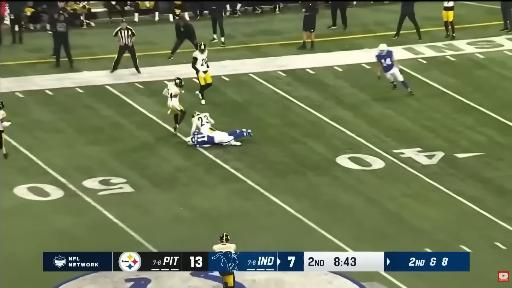Helmet: (220, 233, 230, 243), (198, 42, 206, 54), (174, 78, 183, 88), (378, 44, 388, 53), (188, 137, 194, 144), (193, 112, 200, 117), (0, 101, 4, 109)
Jersey: (191, 113, 214, 134), (376, 50, 395, 73), (190, 131, 215, 146), (193, 50, 208, 72), (164, 82, 180, 98), (213, 243, 235, 252), (0, 110, 6, 133), (444, 2, 454, 10), (0, 110, 6, 119)
Player: (189, 112, 251, 146), (376, 44, 413, 95), (192, 42, 212, 104), (163, 78, 185, 133), (188, 130, 251, 147), (0, 101, 10, 159), (443, 2, 455, 39), (213, 233, 235, 253)
